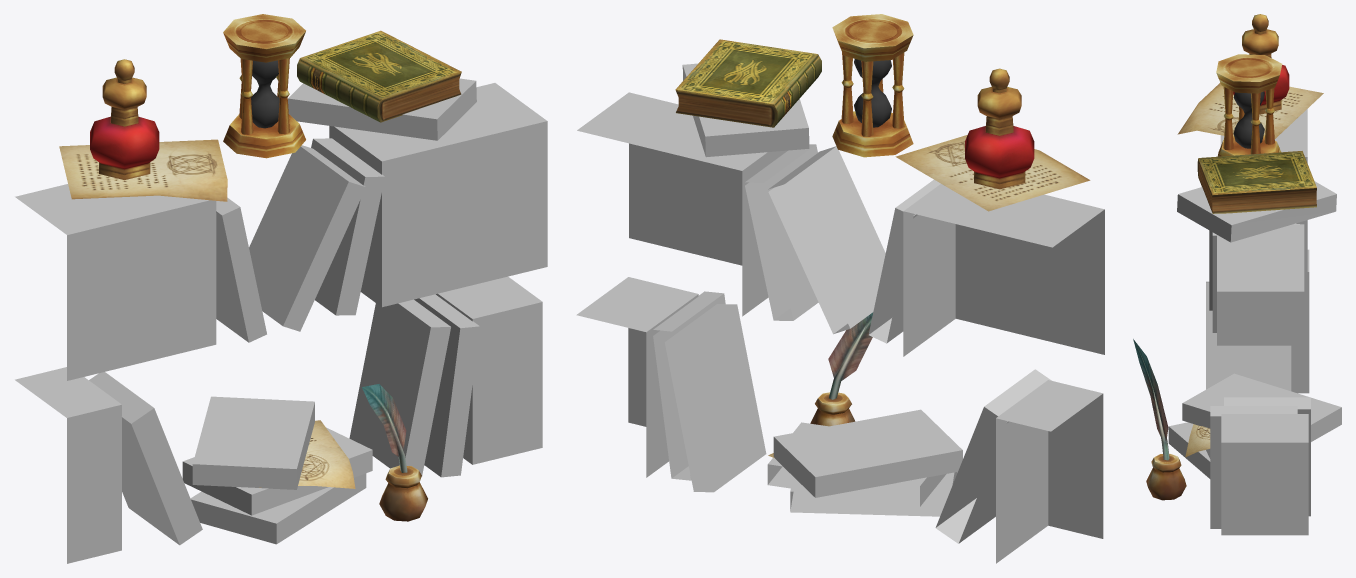
Rendered from Shelf_Preset_03.FBX.
3 renders of one model, left to right at view 1: azimuth 30°, elevation 25°; view 2: azimuth 150°, elevation 25°; view 3: azimuth 270°, elevation 25°, orthographic. The views are drawn at different scales.
Visible parts, largest first — view 1: Shelf_Preset_03; view 2: Shelf_Preset_03; view 3: Shelf_Preset_03.
Part boxes in pixels (x1,y1,x2,y2): Shelf_Preset_03: [15, 14, 547, 563]; Shelf_Preset_03: [576, 14, 1104, 563]; Shelf_Preset_03: [1133, 14, 1341, 535].
Size of the model in its own units: 113 by 51.28 by 106.
